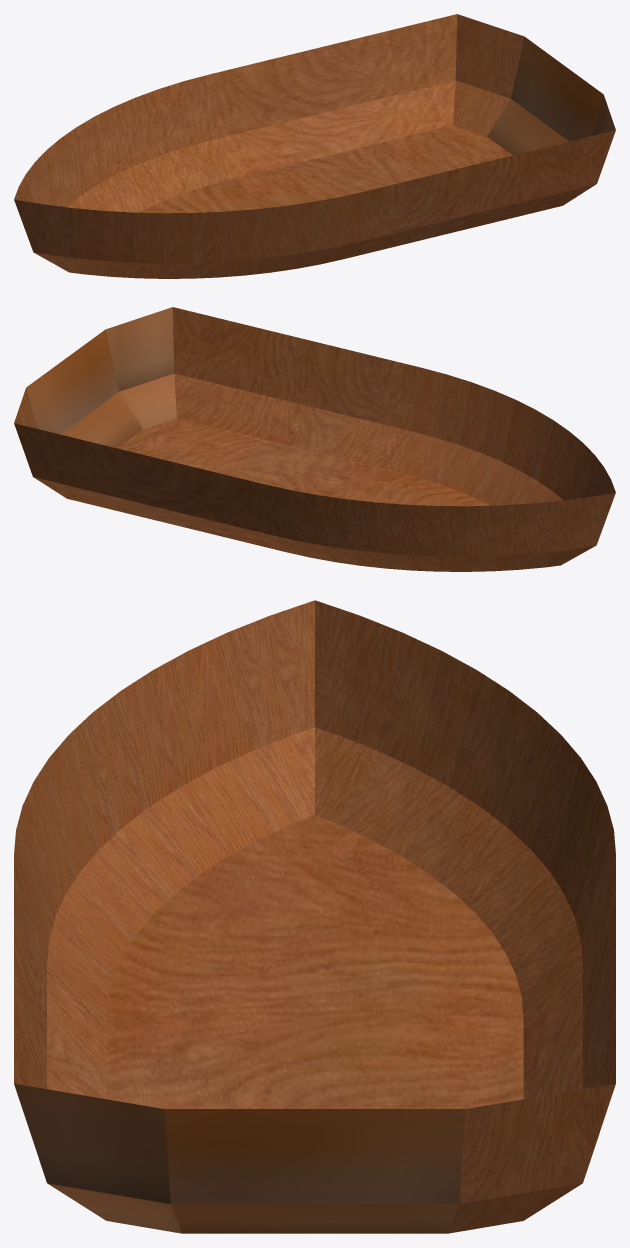
The model's file is GMLID_0598627_75956_700.gltf.
The picture shows the model from 3 angles, top to bottom: view 1: azimuth 30°, elevation 25°; view 2: azimuth 150°, elevation 25°; view 3: azimuth 270°, elevation 25°; orthographic projection. The views are drawn at different scales.
Visible parts, largest first — view 1: Z_UP; view 2: Z_UP; view 3: Z_UP.
Part boxes in pixels (<box>): Z_UP: <box>14,14,615,278</box>; Z_UP: <box>14,307,615,571</box>; Z_UP: <box>14,600,615,1233</box>.
Bounding box in the file's own units: 3 × 0.4499 × 1.5.
Materials: 1 (1 with a texture image).
